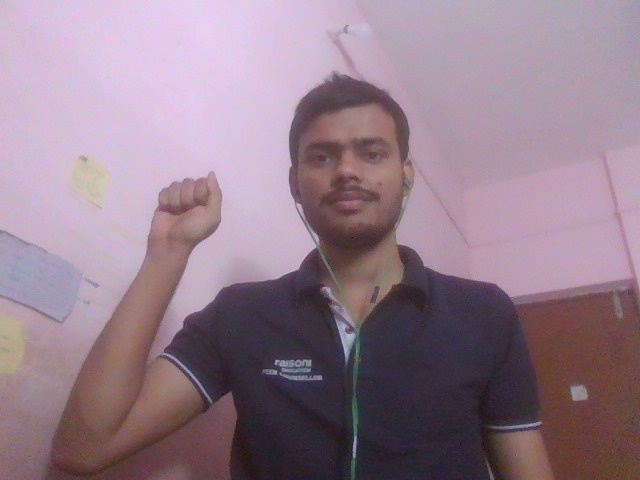Yes: (79, 136, 311, 394)
